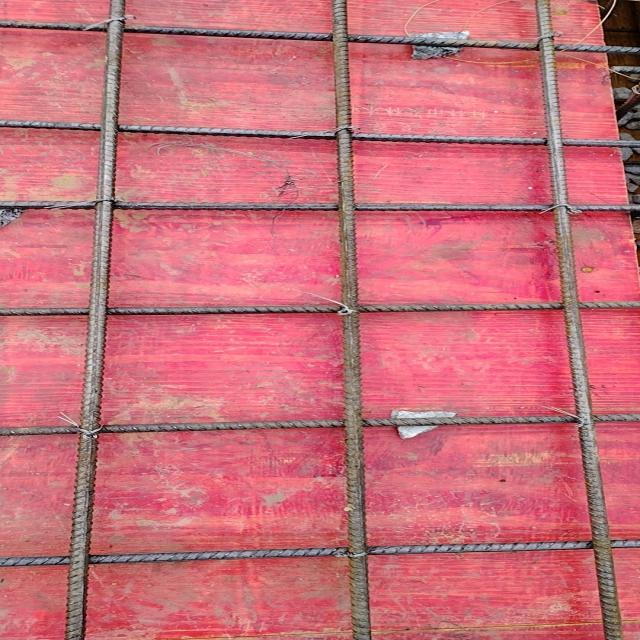ribbed bar: (529, 0, 624, 639), (62, 0, 124, 639), (329, 0, 373, 639), (0, 19, 638, 55), (0, 117, 638, 149), (0, 537, 638, 567), (0, 412, 638, 437), (0, 299, 638, 316), (0, 200, 638, 212)
